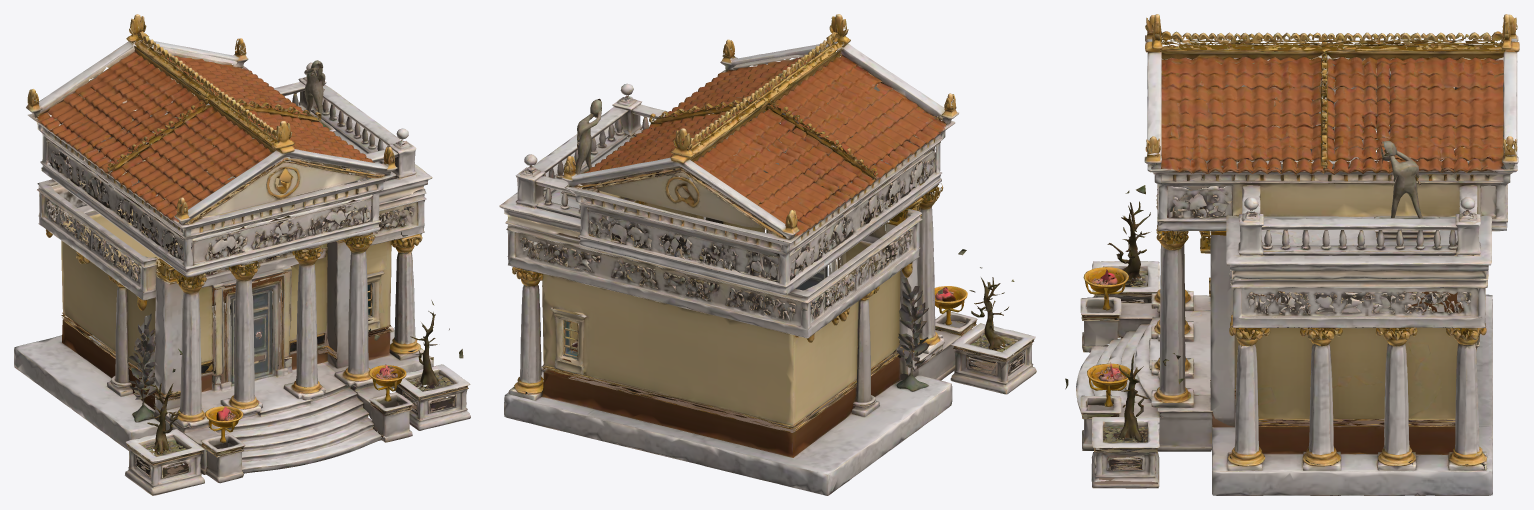
Rendered from home3.glb.
3 renders of one model, left to right at view 1: azimuth 30°, elevation 25°; view 2: azimuth 150°, elevation 25°; view 3: azimuth 270°, elevation 25°, orthographic. The views are drawn at different scales.
Visible parts, largest first — view 1: geometry_0; view 2: geometry_0; view 3: geometry_0.
Part boxes in pixels (x1=…): geometry_0: x1=14, y1=14, x2=470, y2=495; geometry_0: x1=499, y1=14, x2=1036, y2=495; geometry_0: x1=1065, y1=14, x2=1519, y2=495.
Bounding box in the file's own units: 0.9187 × 0.8273 × 0.896.
Materials: 1 (1 with a texture image).
